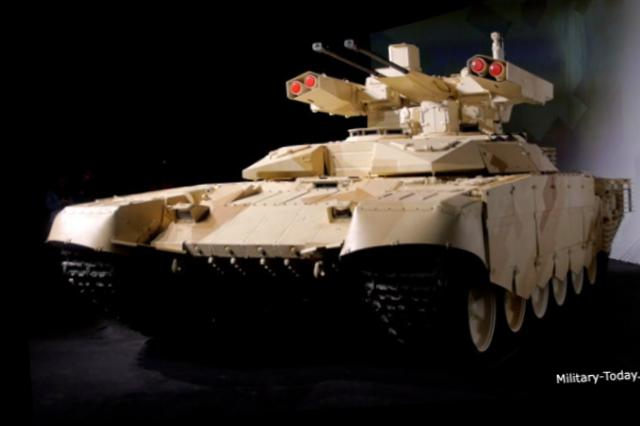tank: (30, 72, 630, 373)
